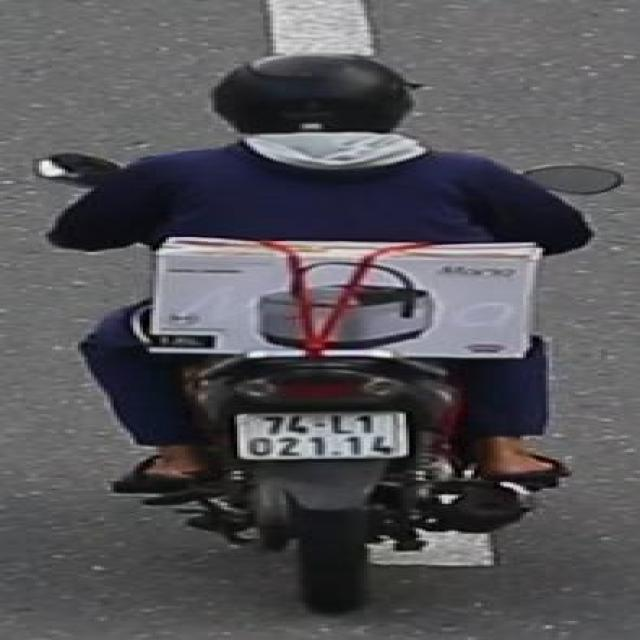LP: (229, 406, 421, 463)
helmet: (211, 46, 439, 164)
